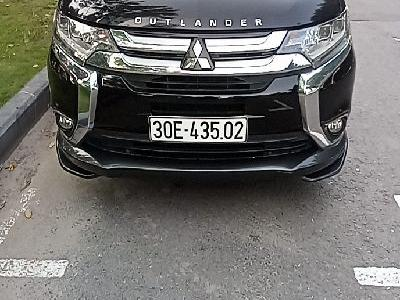lisence: (145, 112, 250, 144)
